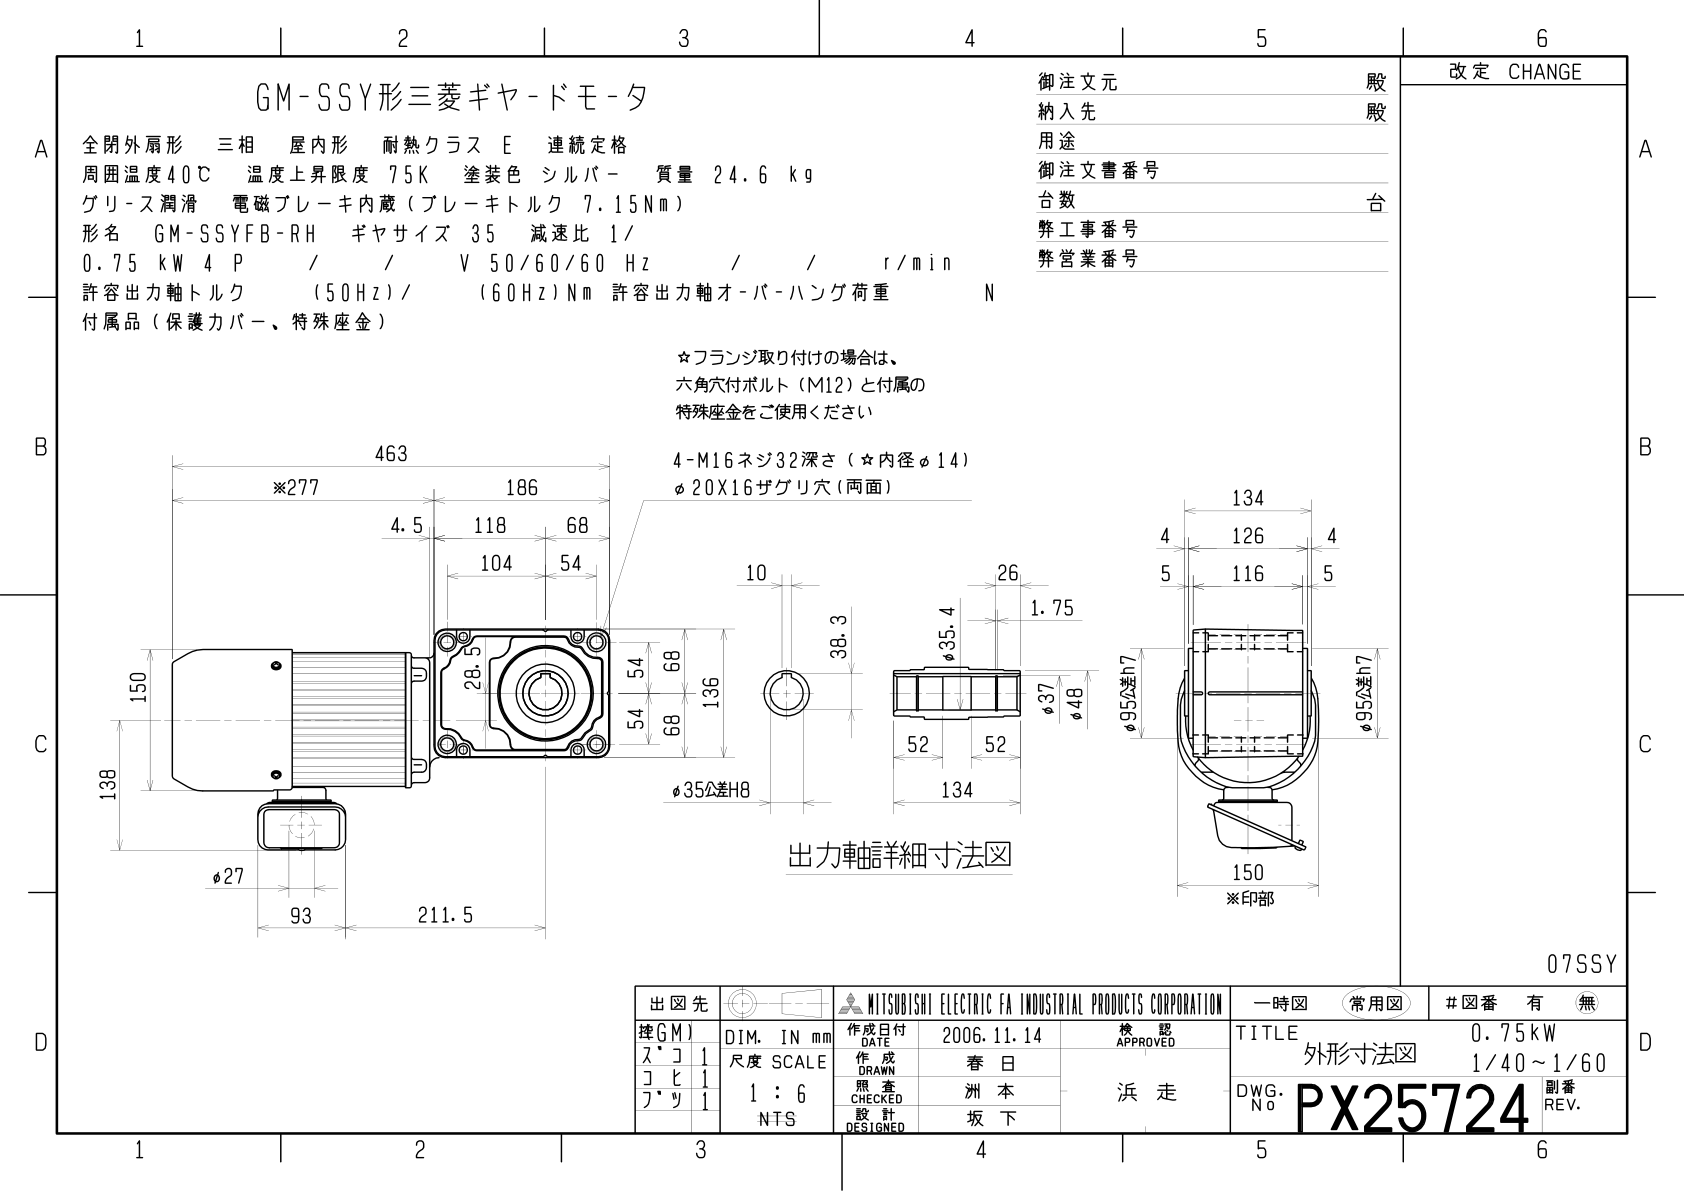GM_SSY_屋内_三相: (1, 1, 1674, 1186)
